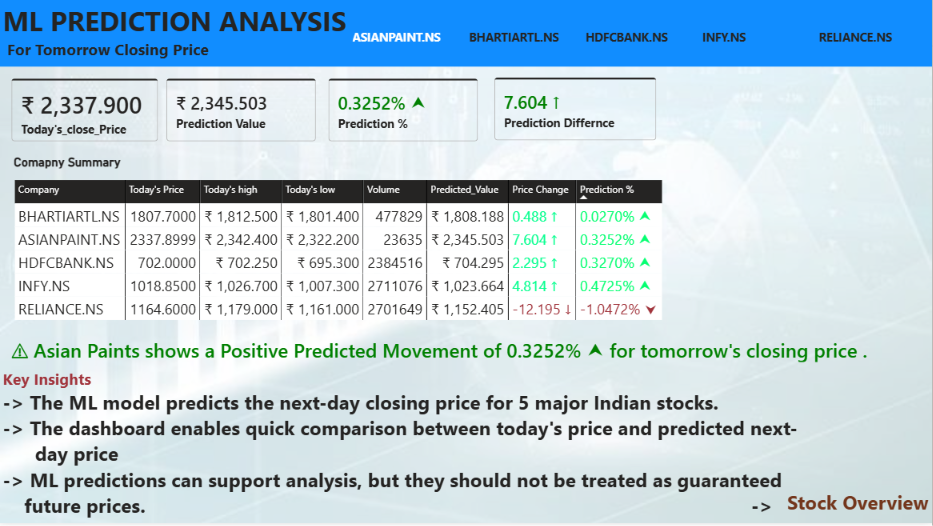

This screenshot's page, from the dashboard's own definition file:
{"tool":"powerbi","page":{"name":"ML Prediction","canvas":[1280,720],"ordinal":1},"visuals":[{"type":"tableEx","title":"Comapny Summary","fields":{"Values":["indian_stock.Company","indian_stock.Today's_close_Price","indian_stock.Today's_high_price","indian_stock.Today's_low_price","indian_stock.Total_Stocks_sold_today","Sum(indian_stock.Predicted_Value)","indian_stock.ML Prediction Performance","indian_stock.ML_pred_growth"]},"box":[14.7,213.4,934.5,239.9],"z":0},{"type":"cardVisual","fields":{"Data":["indian_stock.ML Prediction Performance"]},"box":[663.3,92.5,256.4,120.6],"z":1000},{"type":"textbox","box":[0,0,1280.3,93.7],"z":2000},{"type":"cardVisual","fields":{"Data":["indian_stock.ML_pred_growth"]},"box":[435,93.9,239.8,120.6],"z":3000},{"type":"cardVisual","fields":{"Data":["Sum(indian_stock.Predicted_Value)"]},"box":[212.6,93.5,239.8,120.6],"z":4000},{"type":"advancedSlicerVisual","fields":{"Values":["indian_stock.Company"]},"box":[466.6,12.3,802.7,81],"z":5000},{"type":"cardVisual","fields":{"Data":["indian_stock.Today's_close_Price"]},"box":[0,93.5,235.3,120.6],"z":6000},{"type":"textbox","box":[0,502.2,1280.3,218.2],"z":7000},{"type":"cardVisual","fields":{"Data":["indian_stock.Dynamic Key Insight"]},"box":[0,444.6,1233.6,70],"z":8000},{"type":"actionButton","title":"Stock Overview","box":[1081.5,672.3,199,46.7],"z":9000}]}

Visuals, with their boxes in screenshot pixels (x1, y1, x2, y2), scaled from the page's 1280x720 canvas onto the 933x526 screenshot:
"Comapny Summary" tableEx: box(11, 156, 692, 331)
cardVisual - indian_stock.ML Prediction Performance: box(483, 68, 670, 156)
textbox: box(0, 0, 932, 68)
cardVisual - indian_stock.ML_pred_growth: box(317, 69, 492, 157)
cardVisual - Sum(indian_stock.Predicted_Value): box(155, 68, 330, 156)
advancedSlicerVisual - indian_stock.Company: box(340, 9, 925, 68)
cardVisual - indian_stock.Today's_close_Price: box(0, 68, 172, 156)
textbox: box(0, 367, 932, 525)
cardVisual - indian_stock.Dynamic Key Insight: box(0, 325, 899, 376)
"Stock Overview" actionButton: box(788, 491, 932, 525)
